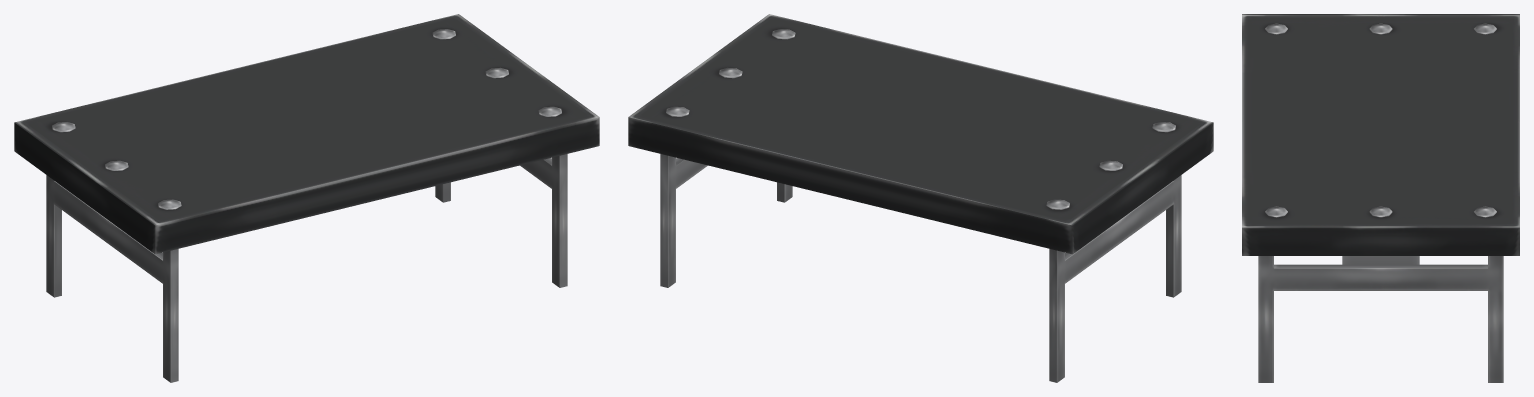
Rendered from MidcenturyDiningTable_HD.fbx.
The picture shows the model from 3 angles, left to right: view 1: azimuth 30°, elevation 25°; view 2: azimuth 150°, elevation 25°; view 3: azimuth 270°, elevation 25°; orthographic projection.
Visible parts, largest first — view 1: MidcenturyDiningTable; view 2: MidcenturyDiningTable; view 3: MidcenturyDiningTable.
Part boxes in pixels (left/top/right/bottom): MidcenturyDiningTable: left=14, top=14, right=599, bottom=382; MidcenturyDiningTable: left=628, top=14, right=1213, bottom=382; MidcenturyDiningTable: left=1242, top=14, right=1519, bottom=382.
Bounding box in the file's own units: 1.66 × 0.6146 × 0.9112.
